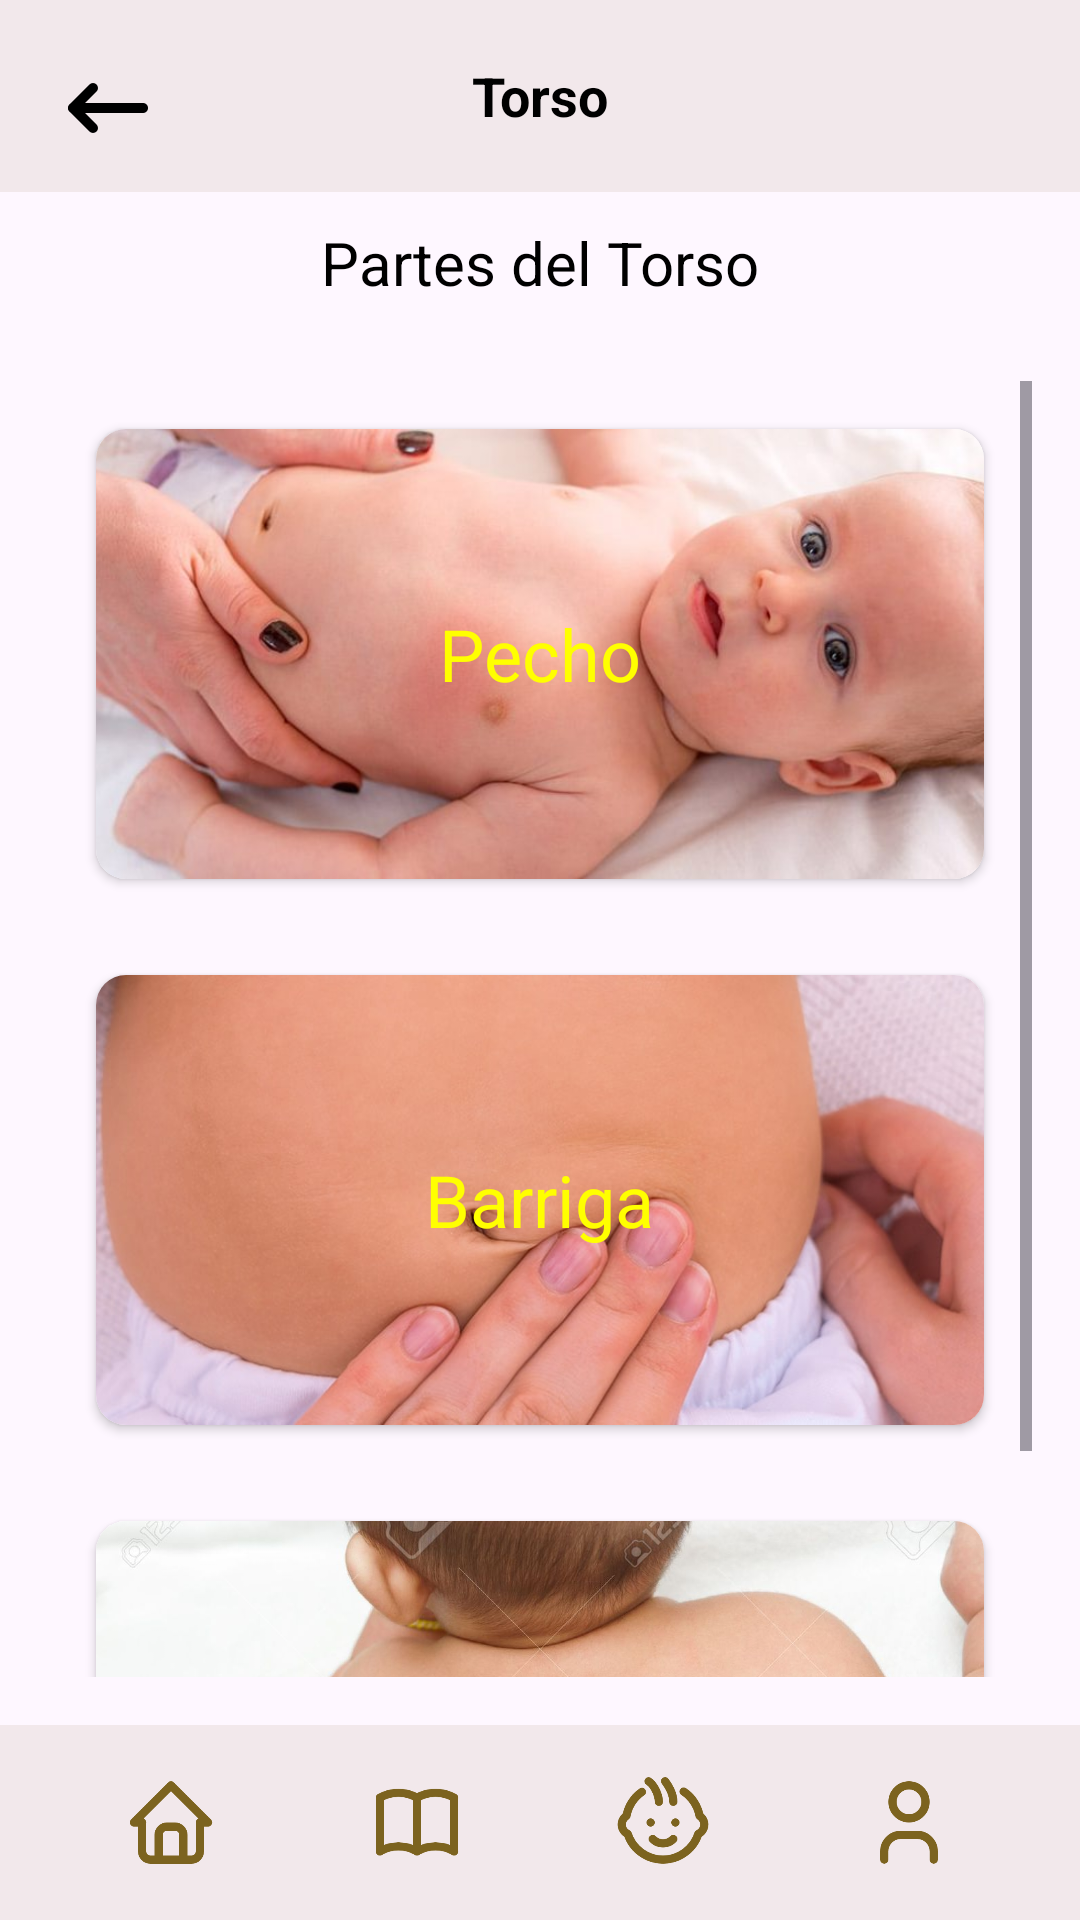

Locate icon controls on the screen. Image size 1080×1920, boxes as (x1, y1, x2, y2).
book: (376, 1789, 458, 1856)
home: (130, 1781, 212, 1864)
moodboy: (617, 1777, 709, 1864)
personaa: (880, 1781, 938, 1864)
